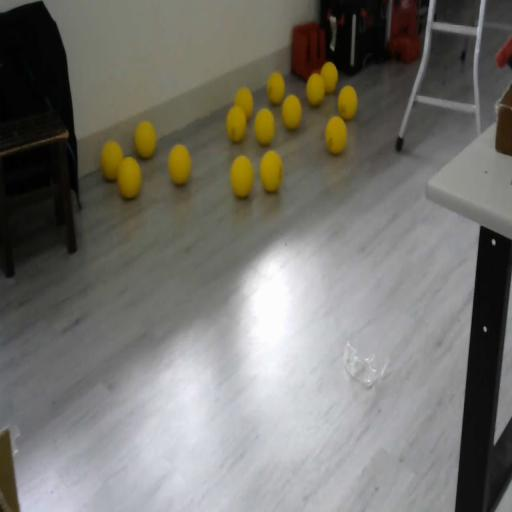FUEL: (116, 155, 142, 199), (230, 153, 254, 198), (167, 143, 192, 186), (259, 149, 283, 192), (100, 138, 124, 180), (134, 120, 156, 159), (325, 116, 347, 154), (254, 107, 275, 145), (281, 94, 302, 130), (234, 86, 254, 122), (337, 85, 357, 120), (305, 72, 325, 106), (266, 71, 286, 105), (320, 61, 338, 94)
